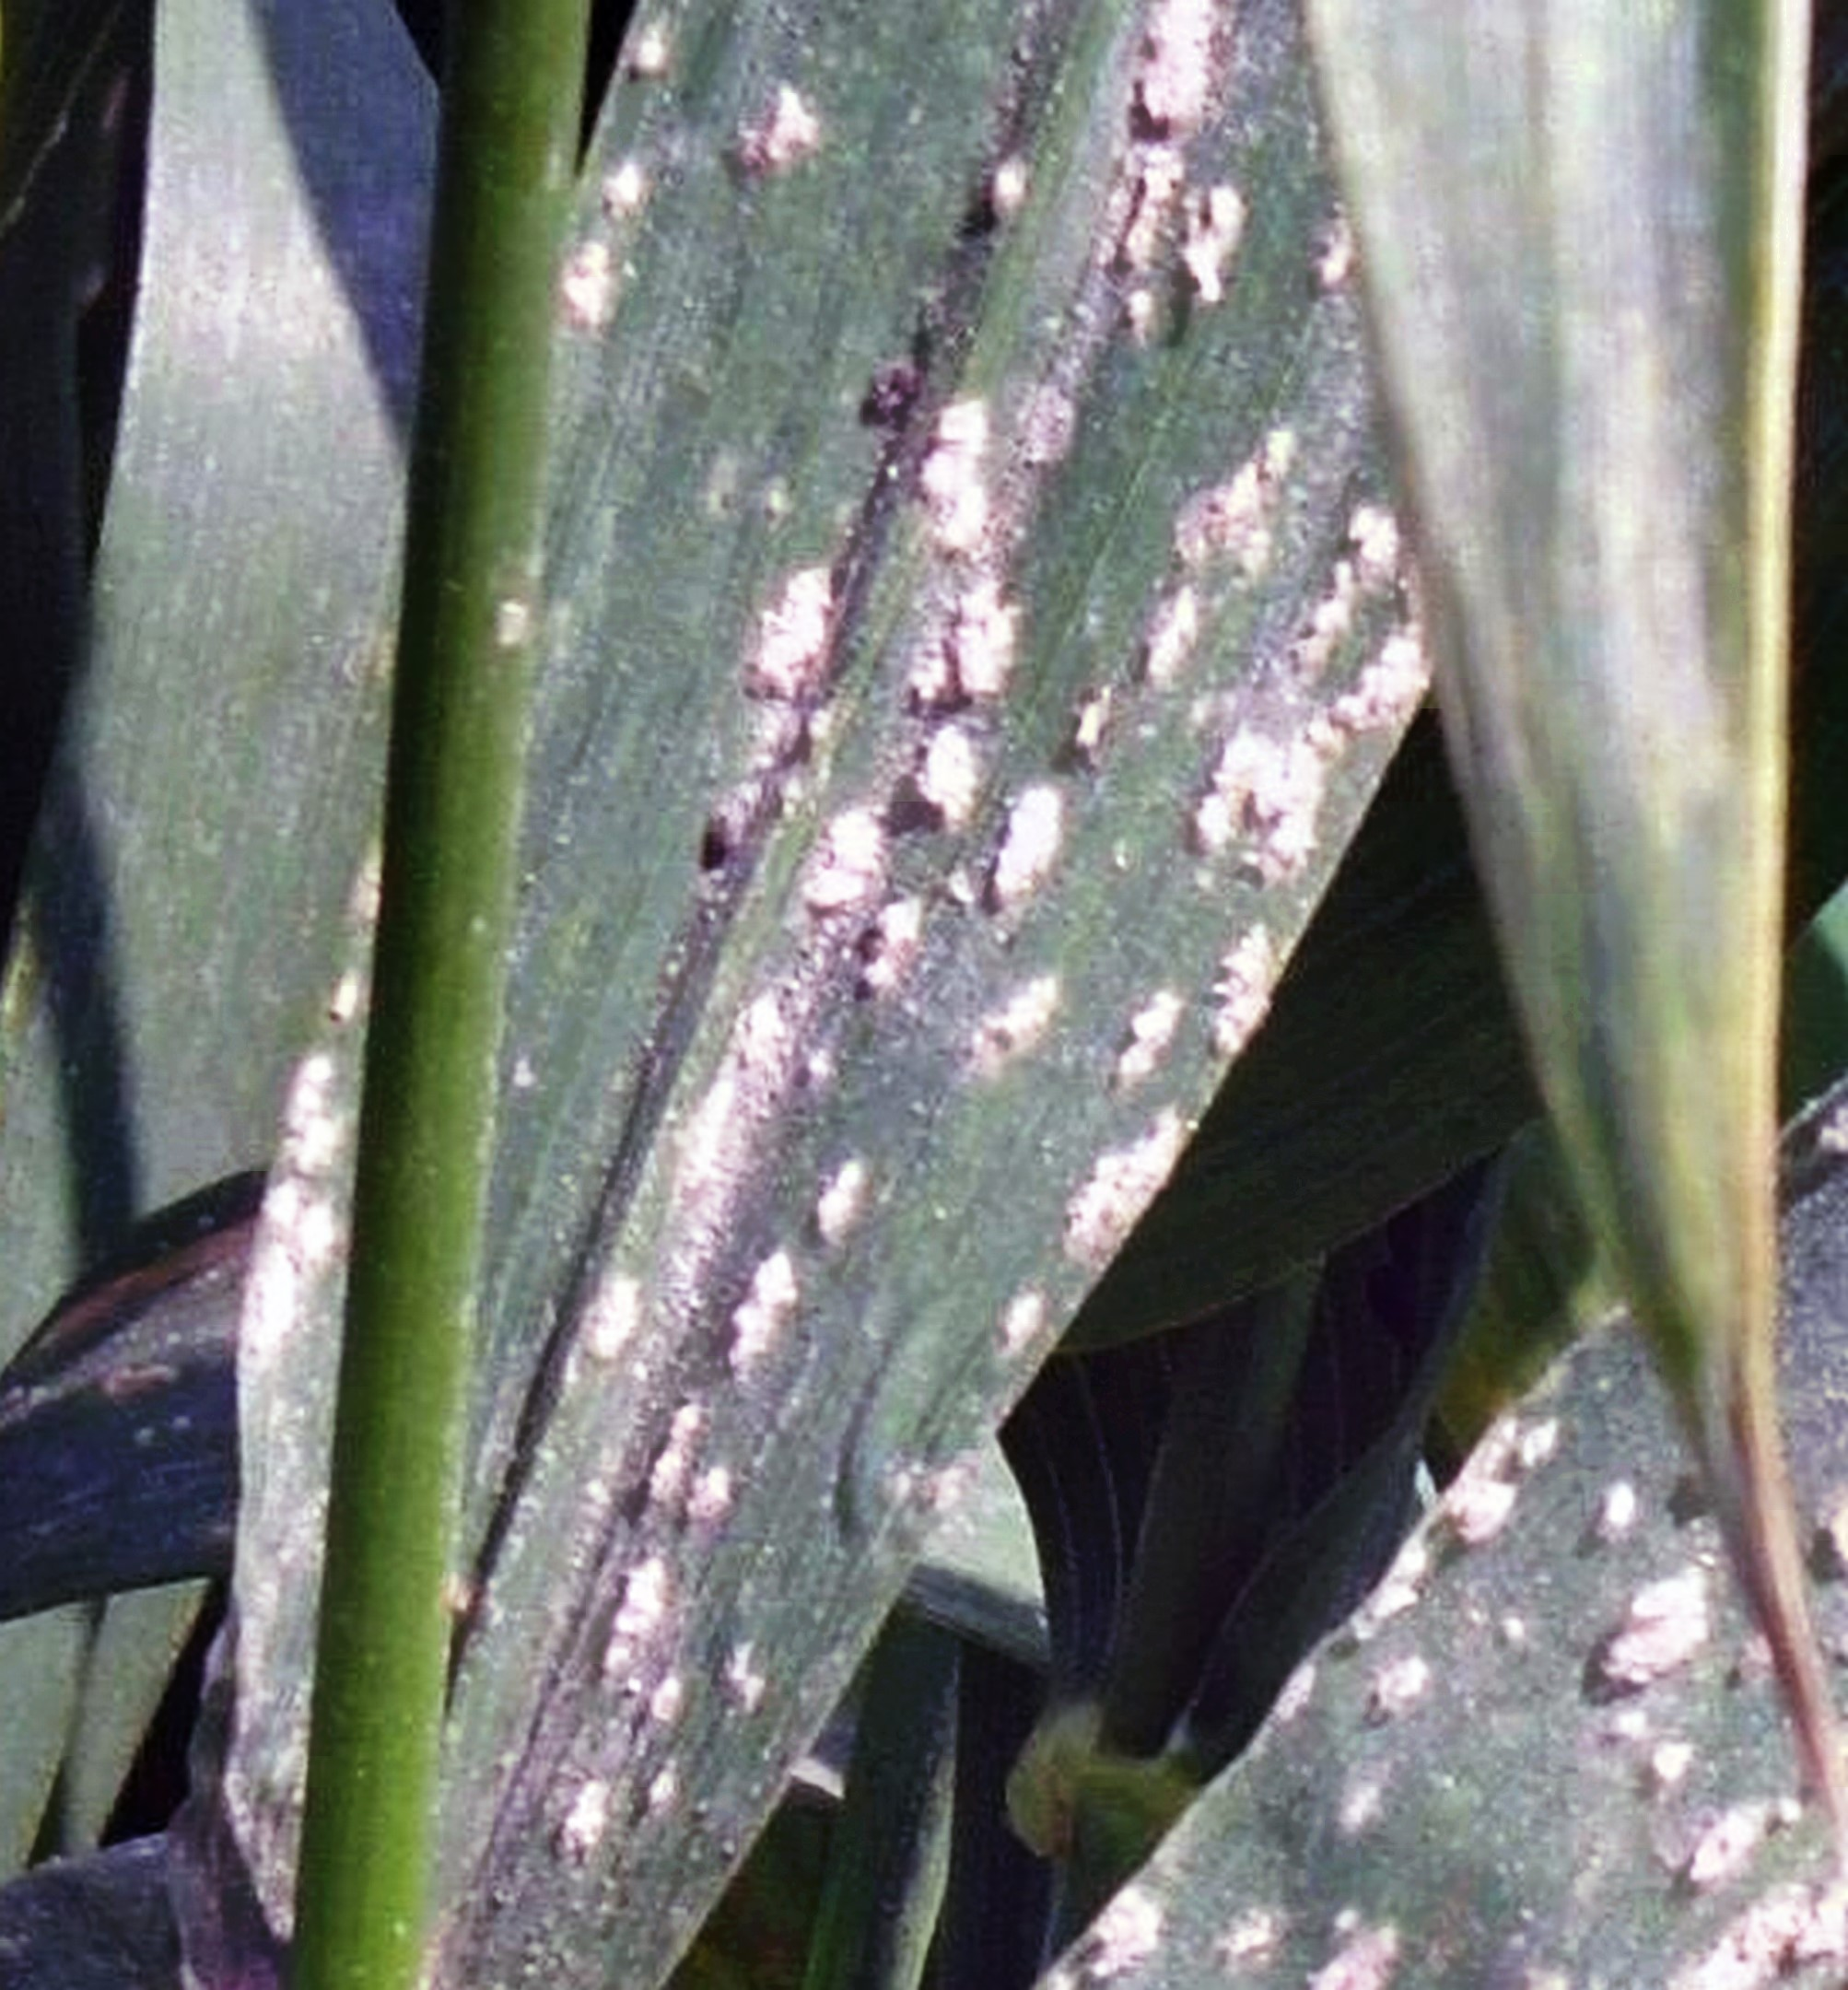Powdery Mildew: (526, 130, 1523, 1504)
